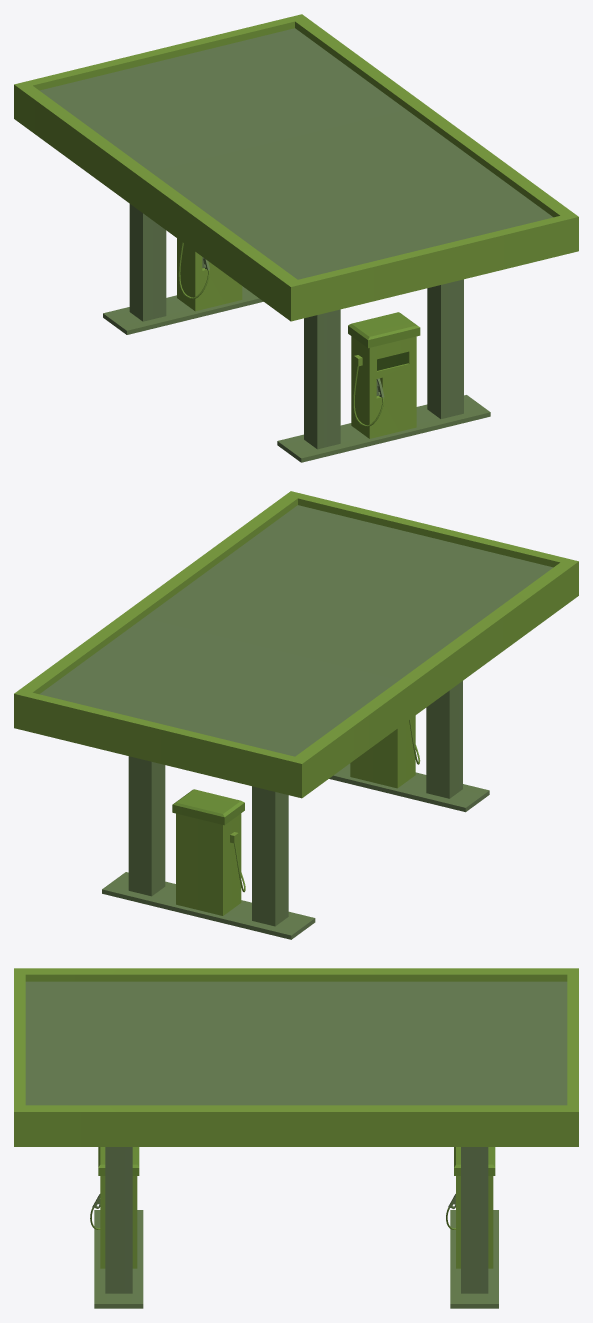
The model's file is Gas_Station_01.fbx.
The picture shows the model from 3 angles, top to bottom: view 1: azimuth 30°, elevation 25°; view 2: azimuth 150°, elevation 25°; view 3: azimuth 270°, elevation 25°; orthographic projection. The views are drawn at different scales.
Parts seen in each view (by area): view 1: Gas_Station_01; view 2: Gas_Station_01; view 3: Gas_Station_01.
Part boxes in pixels (x1=…): Gas_Station_01: x1=14, y1=14, x2=578, y2=462; Gas_Station_01: x1=14, y1=491, x2=578, y2=939; Gas_Station_01: x1=14, y1=968, x2=578, y2=1308.
Size of the model in its own units: 5.3 by 3.81 by 8.82.
